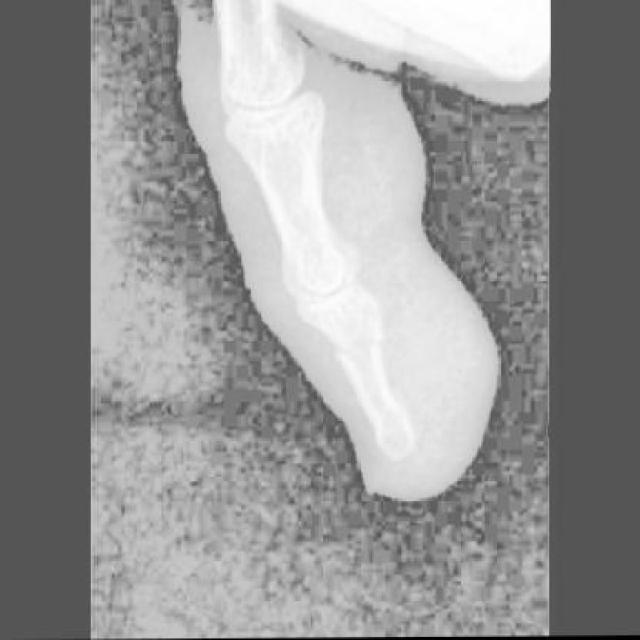Fracture: (328, 336, 384, 370)
